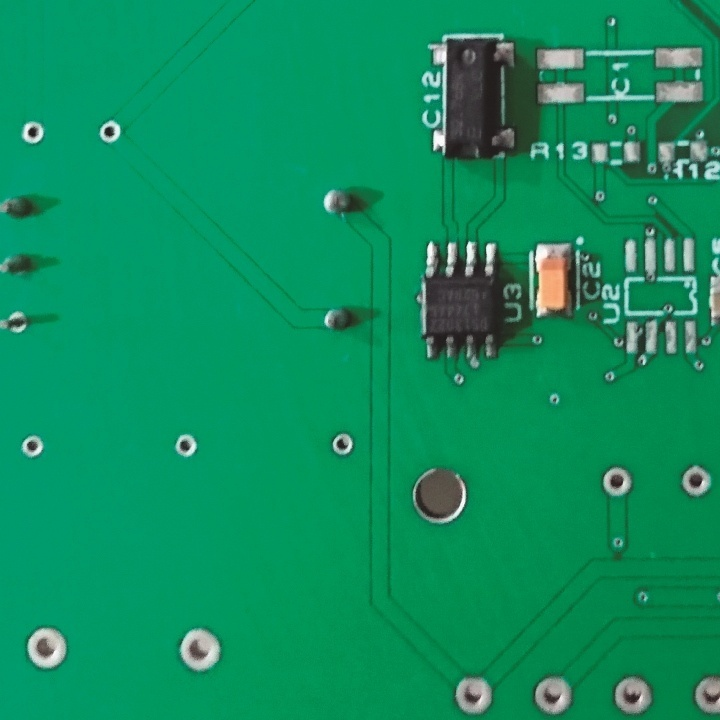F: (177, 623, 227, 675), (27, 625, 73, 672), (530, 673, 577, 718), (611, 672, 656, 718), (451, 675, 496, 716), (676, 463, 712, 500), (692, 672, 720, 715), (600, 463, 631, 500), (1, 306, 28, 340), (330, 429, 359, 457), (172, 432, 201, 459), (19, 120, 47, 147), (97, 118, 122, 144), (21, 431, 44, 458)
